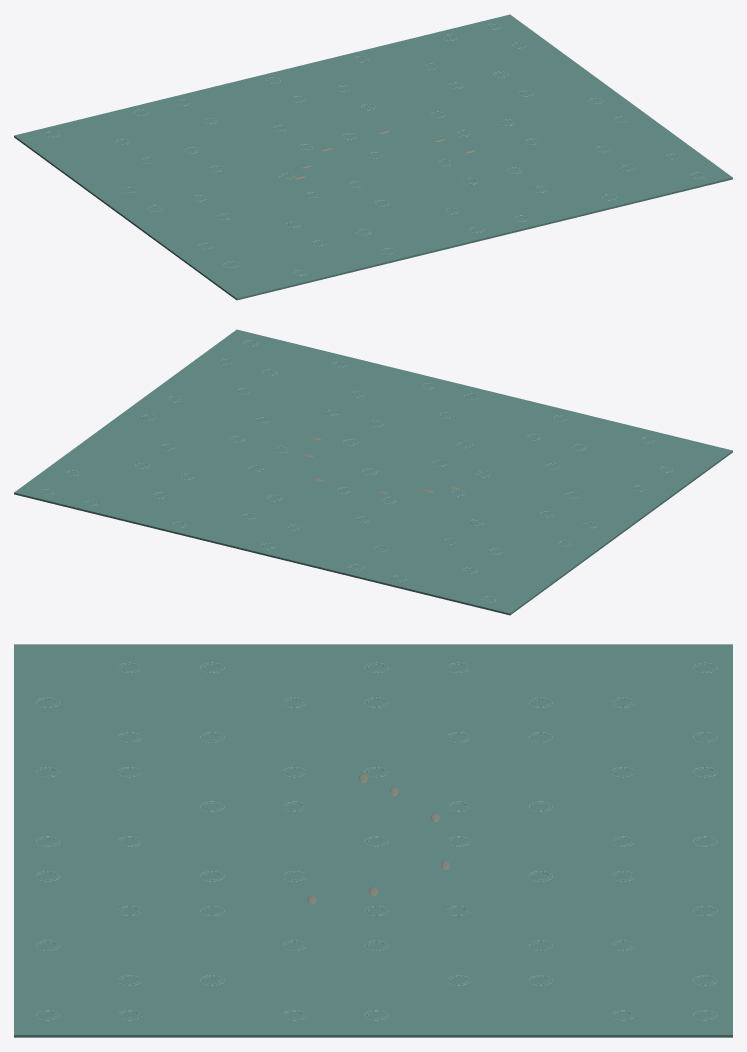
Rendered from agua_pantano.glb.
3 renders of one model, top to bottom at view 1: azimuth 30°, elevation 25°; view 2: azimuth 150°, elevation 25°; view 3: azimuth 270°, elevation 25°, orthographic. The views are drawn at different scales.
Visible parts, largest first — view 1: agua_pantano; view 2: agua_pantano; view 3: agua_pantano.
Boxes of the visible parts, bbox=[...] form: agua_pantano: bbox=[14, 14, 732, 300]; agua_pantano: bbox=[14, 329, 732, 615]; agua_pantano: bbox=[14, 644, 732, 1037].
Bounding box in the file's own units: 90 × 0.415 × 70.
